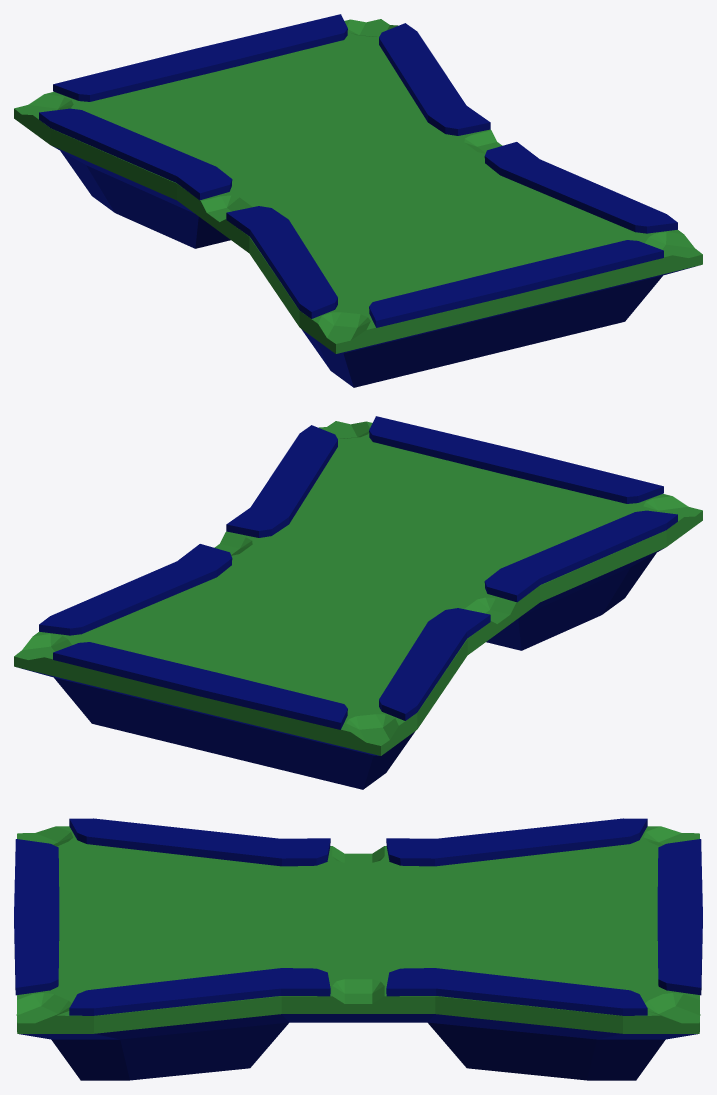
Rendered from table_custom.glb.
The picture shows the model from 3 angles, top to bottom: view 1: azimuth 30°, elevation 25°; view 2: azimuth 150°, elevation 25°; view 3: azimuth 270°, elevation 25°; orthographic projection. The views are drawn at different scales.
Parts seen in each view (by area): view 1: Cube; view 2: Cube; view 3: Cube.
Part boxes in pixels (bbox=[...]): Cube: bbox=[14, 14, 702, 387]; Cube: bbox=[14, 416, 702, 789]; Cube: bbox=[14, 818, 702, 1080].
Size of the model in its own units: 9.61 by 2.28 by 14.69.
